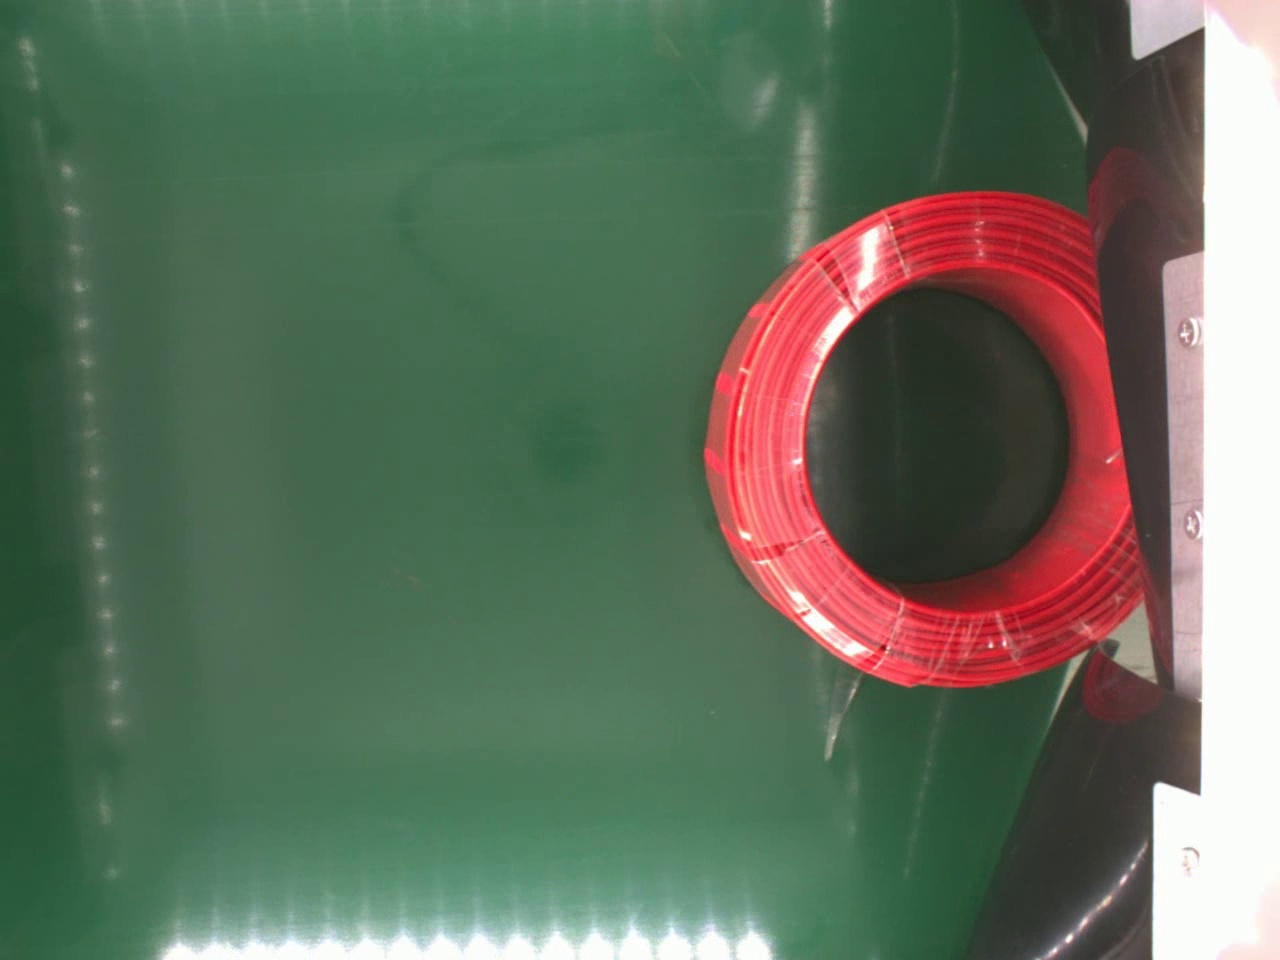red: (700, 187, 1143, 696)
